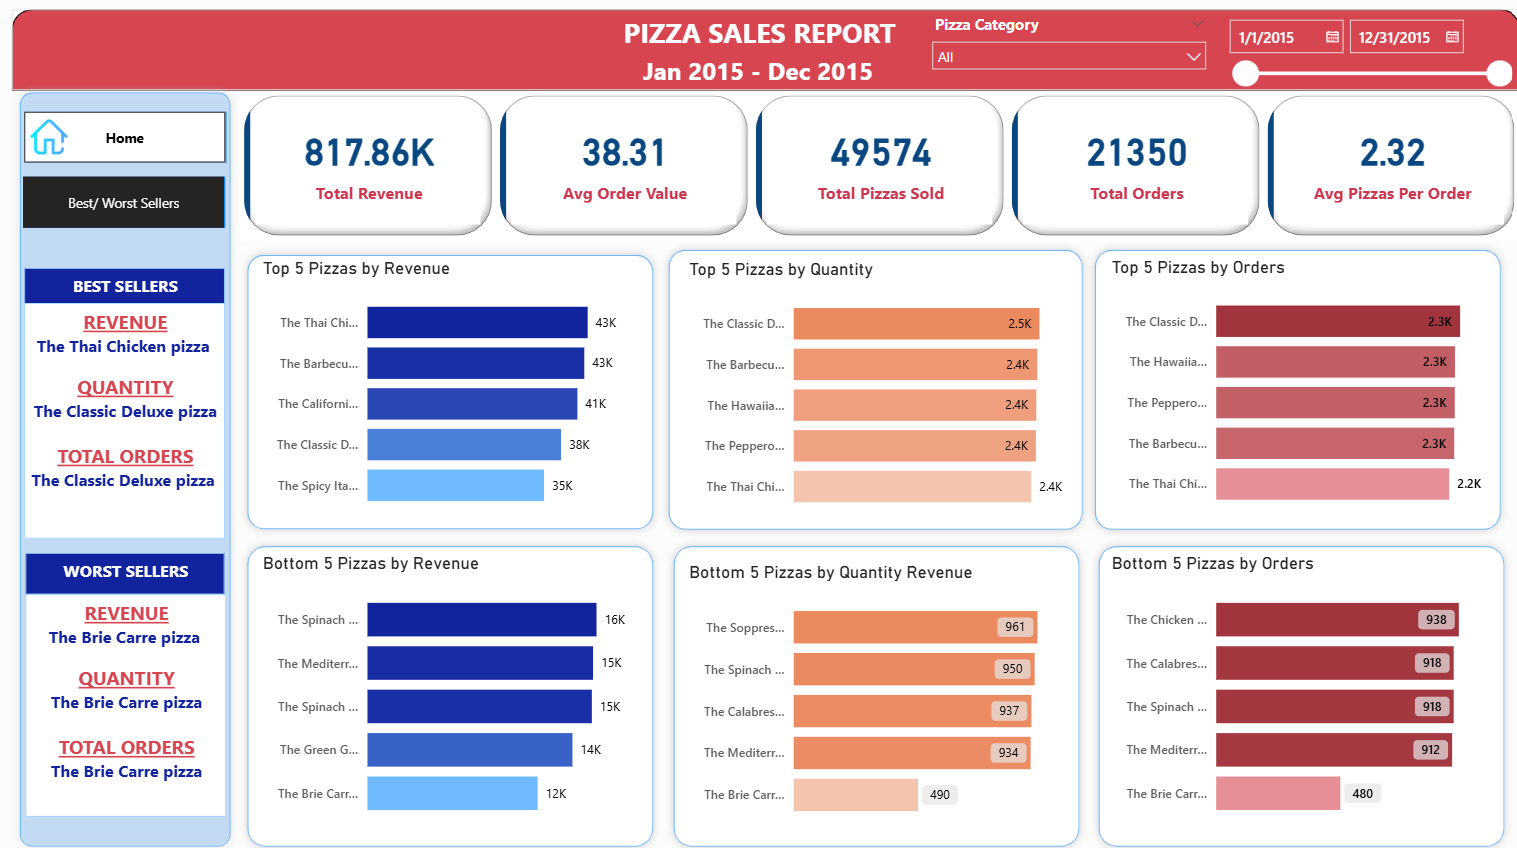

What the dashboard file says about the page in this screenshot:
{"tool":"powerbi","page":{"name":"Best/ Worst Sellers","canvas":[1500,843],"ordinal":1},"visuals":[{"type":"cardVisual","fields":{"Data":["pizza_sales.Total Revenue","pizza_sales.Avg Order Value","pizza_sales.Total Pizzas Sold","pizza_sales.Total Orders","pizza_sales.Avg Pizzas Per Order"]},"box":[237.1,91.3,1263.2,148.5],"z":0},{"type":"shape","box":[13.6,10.9,1486.7,80.4],"z":1000},{"type":"textbox","box":[606.4,10.9,286.2,45],"z":2000},{"type":"textbox","box":[536.9,50.4,423.8,61.3],"z":3000},{"type":"shape","box":[13.6,84.5,223.5,759],"z":4000},{"type":"shape","box":[237.1,245.3,415.6,286.2],"z":5000},{"type":"textbox","box":[25.9,265.7,197.6,46.3],"z":6000},{"type":"textbox","box":[25.9,299.8,197.6,231.7],"z":7000},{"type":"textbox","box":[27.3,546.4,196.2,40.9],"z":8000},{"type":"textbox","box":[27.3,587.3,197.6,219.4],"z":9000},{"type":"slicer","fields":{"Values":["pizza_sales.pizza_category"]},"box":[910.2,10.9,290.2,80.4],"z":10000},{"type":"slicer","fields":{"Values":["pizza_sales.order_date"]},"box":[1200.5,10.9,299.8,80.4],"z":11000},{"type":"shape","box":[652.7,239.8,423.8,291.6],"z":12000},{"type":"shape","box":[1072.4,239.8,415.6,291.6],"z":13000},{"type":"shape","box":[237.1,531.4,415.6,312],"z":14000},{"type":"shape","box":[656.8,531.4,415.6,312],"z":15000},{"type":"shape","box":[1076.5,531.4,415.6,312],"z":16000},{"type":"barChart","title":"Top 5 Pizzas by Revenue","fields":{"Category":["pizza_sales.pizza_name"],"Y":["pizza_sales.Total Revenue"]},"box":[256.2,256.2,378.8,261.6],"z":17000},{"type":"barChart","title":"Bottom 5 Pizzas by Revenue","fields":{"Category":["pizza_sales.pizza_name"],"Y":["pizza_sales.Total Revenue"]},"box":[256.2,546.4,378.8,276.6],"z":18000},{"type":"barChart","title":"Top 5 Pizzas by Quantity","fields":{"Category":["pizza_sales.pizza_name"],"Y":["pizza_sales.Total Pizzas Sold"]},"box":[675.9,257.5,378.8,261.6],"z":19000},{"type":"barChart","title":"Bottom 5 Pizzas by Quantity Revenue","fields":{"Category":["pizza_sales.pizza_name"],"Y":["pizza_sales.Total Pizzas Sold"]},"box":[675.9,554.6,378.8,268.4],"z":20000},{"type":"barChart","title":"Top 5 Pizzas by Orders","fields":{"Category":["pizza_sales.pizza_name"],"Y":["pizza_sales.Total Orders"]},"box":[1091.5,254.8,378.8,261.6],"z":21000},{"type":"barChart","title":"Bottom 5 Pizzas by Orders","fields":{"Category":["pizza_sales.pizza_name"],"Y":["pizza_sales.Total Orders"]},"box":[1091.5,546.4,378.8,276.6],"z":22000},{"type":"pageNavigator","box":[24.5,175.8,198.9,50.4],"z":23000},{"type":"pageNavigator","box":[25.9,111.7,198.9,50.4],"z":24000},{"type":"image","box":[27.3,110.4,46.3,51.8],"z":25000}]}

Visuals, with their boxes in screenshot pixels (x1, y1, x2, y2), scaled from the page's 1500x843 canvas onto the 1517x848 screenshot:
cardVisual - pizza_sales.Total Revenue x pizza_sales.Avg Order Value: bbox=(240, 92, 1516, 241)
shape: bbox=(14, 11, 1516, 92)
textbox: bbox=(613, 11, 903, 56)
textbox: bbox=(543, 51, 972, 112)
shape: bbox=(14, 85, 240, 847)
shape: bbox=(240, 247, 660, 535)
textbox: bbox=(26, 267, 226, 314)
textbox: bbox=(26, 302, 226, 535)
textbox: bbox=(28, 550, 226, 591)
textbox: bbox=(28, 591, 227, 811)
slicer - pizza_sales.pizza_category: bbox=(921, 11, 1214, 92)
slicer - pizza_sales.order_date: bbox=(1214, 11, 1516, 92)
shape: bbox=(660, 241, 1089, 535)
shape: bbox=(1085, 241, 1505, 535)
shape: bbox=(240, 535, 660, 847)
shape: bbox=(664, 535, 1085, 847)
shape: bbox=(1089, 535, 1509, 847)
"Top 5 Pizzas by Revenue" barChart: bbox=(259, 258, 642, 521)
"Bottom 5 Pizzas by Revenue" barChart: bbox=(259, 550, 642, 828)
"Top 5 Pizzas by Quantity" barChart: bbox=(684, 259, 1067, 522)
"Bottom 5 Pizzas by Quantity Revenue" barChart: bbox=(684, 558, 1067, 828)
"Top 5 Pizzas by Orders" barChart: bbox=(1104, 256, 1487, 519)
"Bottom 5 Pizzas by Orders" barChart: bbox=(1104, 550, 1487, 828)
pageNavigator: bbox=(25, 177, 226, 228)
pageNavigator: bbox=(26, 112, 227, 163)
image: bbox=(28, 111, 74, 163)
